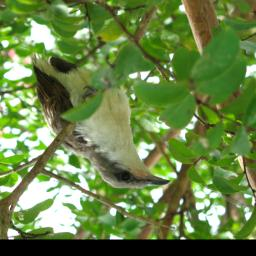Cuckoo: (29, 50, 168, 190)
